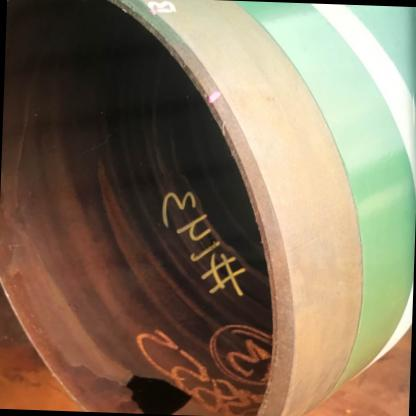Bevel: (214, 115, 238, 141)
